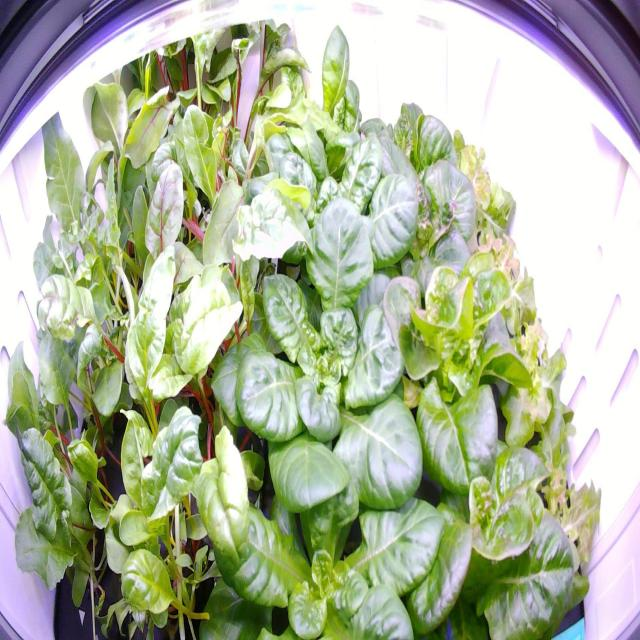Ready: (382, 372, 594, 638), (372, 230, 536, 428), (353, 145, 488, 305), (353, 73, 462, 230)
young: (199, 190, 449, 520), (187, 358, 456, 640), (235, 101, 428, 313), (260, 10, 403, 191)
